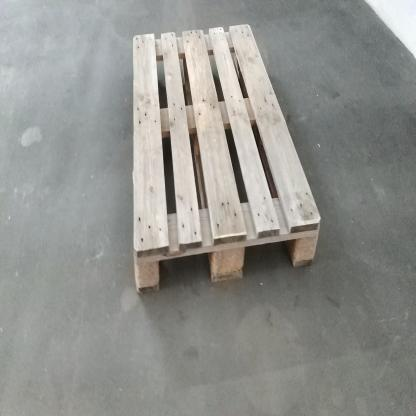BoxFace: (129, 21, 324, 299)
